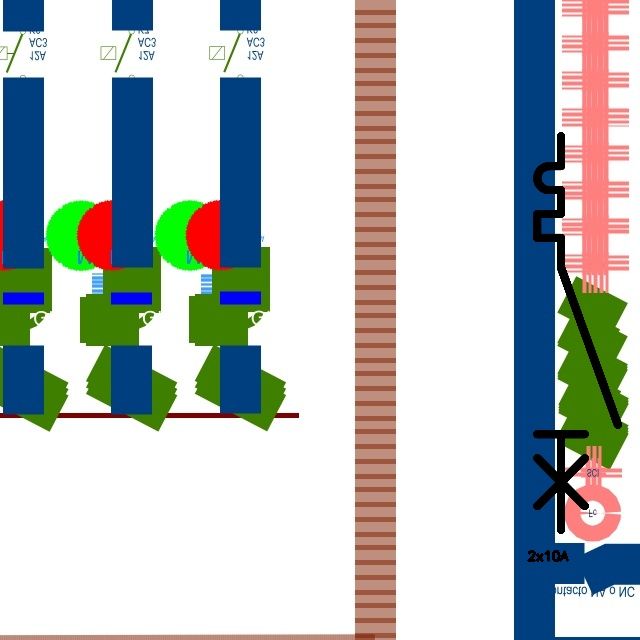interruptor_termomagnetico: (527, 126, 628, 540)
